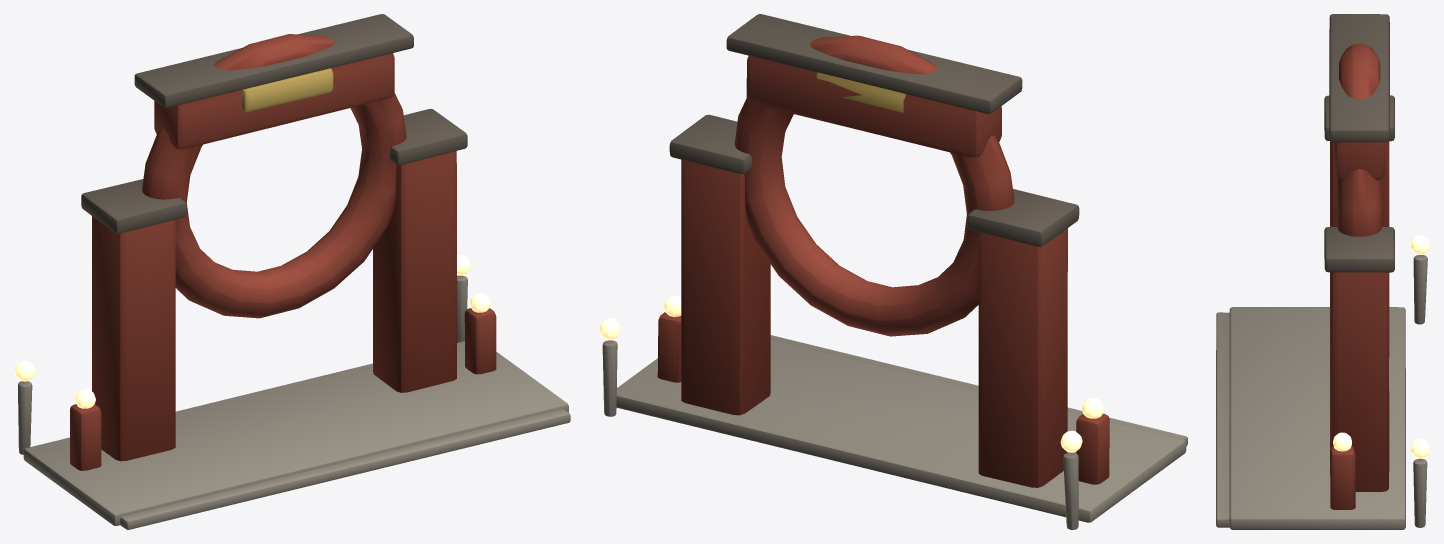
3 views of the same model, side by side, from view 1: azimuth 30°, elevation 25°; view 2: azimuth 150°, elevation 25°; view 3: azimuth 270°, elevation 25° (orthographic). The views are drawn at different scales.
Parts seen in each view (by area): view 1: gate_b44c0e7b; view 2: gate_b44c0e7b; view 3: gate_b44c0e7b.
Part boxes in pixels (x1=…): gate_b44c0e7b: x1=14, y1=14, x2=570, y2=529; gate_b44c0e7b: x1=599, y1=14, x2=1187, y2=529; gate_b44c0e7b: x1=1216, y1=14, x2=1429, y2=529.
Bounding box in the file's own units: 6 × 4.82 × 2.55.
